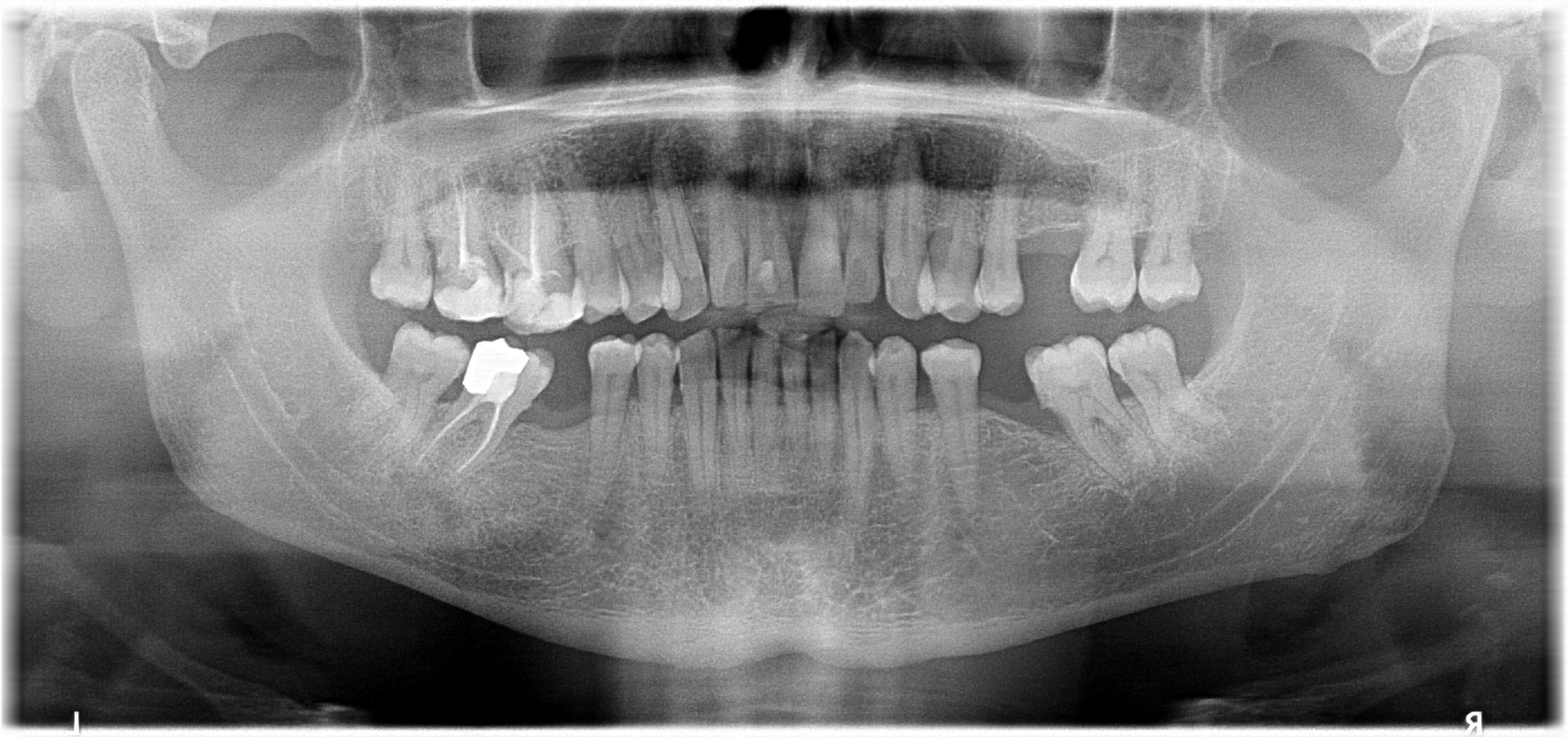Premolars: (598, 161, 1568, 484), (258, 34, 764, 289), (262, 203, 742, 360), (225, 182, 644, 348)
